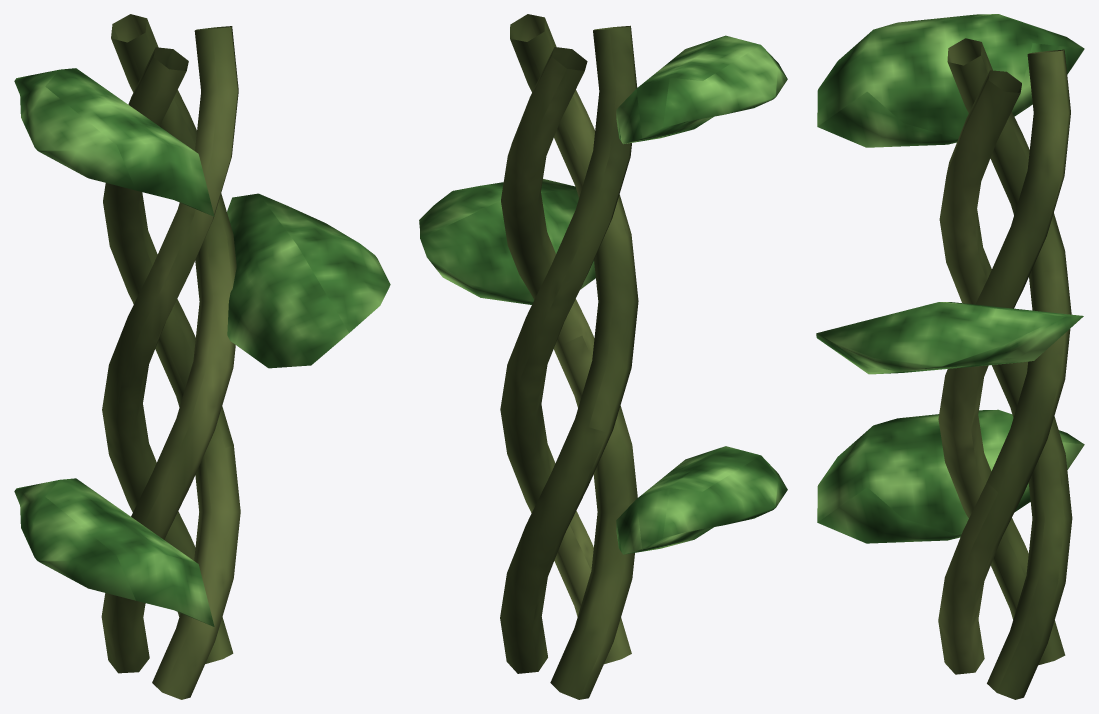
The model's file is VineStalk.fbx.
The picture shows the model from 3 angles, left to right: view 1: azimuth 30°, elevation 25°; view 2: azimuth 150°, elevation 25°; view 3: azimuth 270°, elevation 25°; orthographic projection. The views are drawn at different scales.
Parts seen in each view (by area): view 1: VineStalk; view 2: VineStalk; view 3: VineStalk.
Part boxes in pixels (<box>): VineStalk: <box>14,14,390,699</box>; VineStalk: <box>419,14,787,699</box>; VineStalk: <box>816,14,1084,699</box>.
Size of the model in its own units: 0.5604 by 1.02 by 0.3999.
